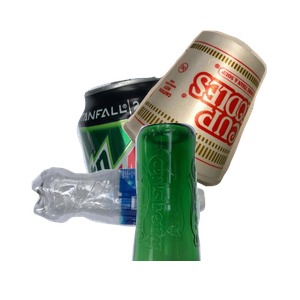glass: (129, 120, 300, 300)
metal: (74, 74, 257, 254)
plastic: (29, 165, 227, 300)
trash: (119, 28, 300, 207)
